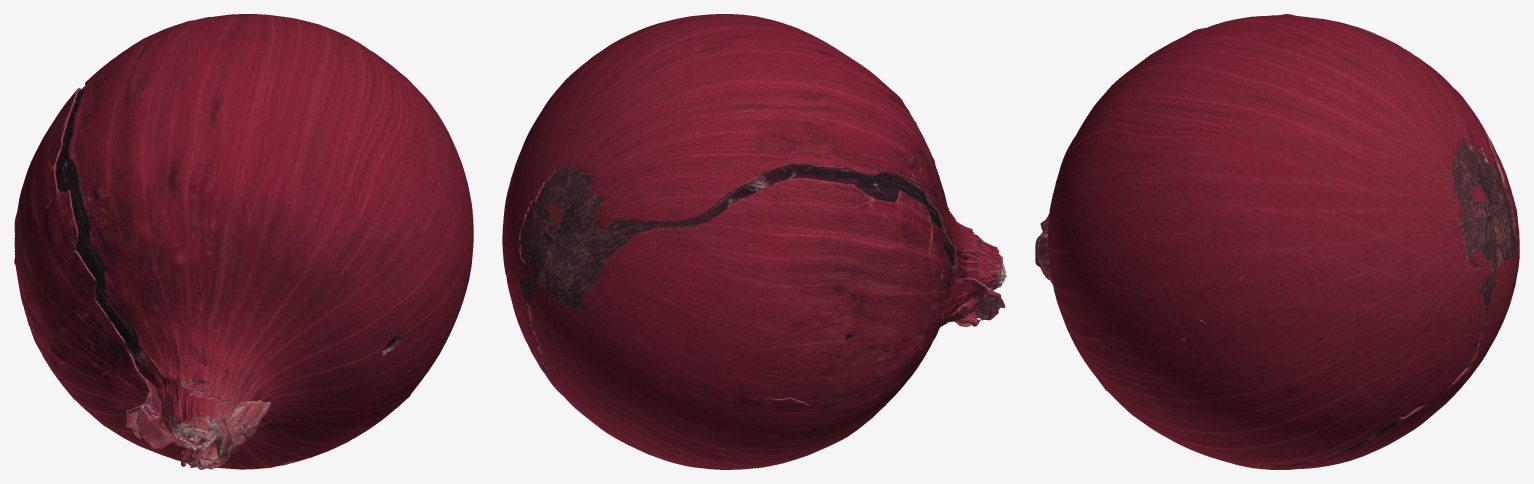
File: sister-11.glb
3 renders of one model, left to right at view 1: azimuth 30°, elevation 25°; view 2: azimuth 150°, elevation 25°; view 3: azimuth 270°, elevation 25°, orthographic. The views are drawn at different scales.
Parts seen in each view (by area): view 1: red onion; view 2: red onion; view 3: red onion.
Boxes of the visible parts, x1,y1,x2,y2 form: red onion: (14,14,473,469); red onion: (502,14,1006,469); red onion: (1035,14,1519,469).
Bounding box in the file's own units: 0.1034 × 0.1027 × 0.1082.
Materials: 1 (1 with a texture image).
